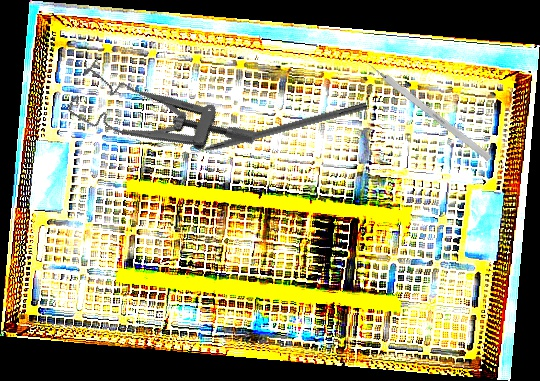Hook Surgical: (359, 55, 492, 162), (175, 100, 368, 162)
Speculum: (61, 40, 260, 201)
